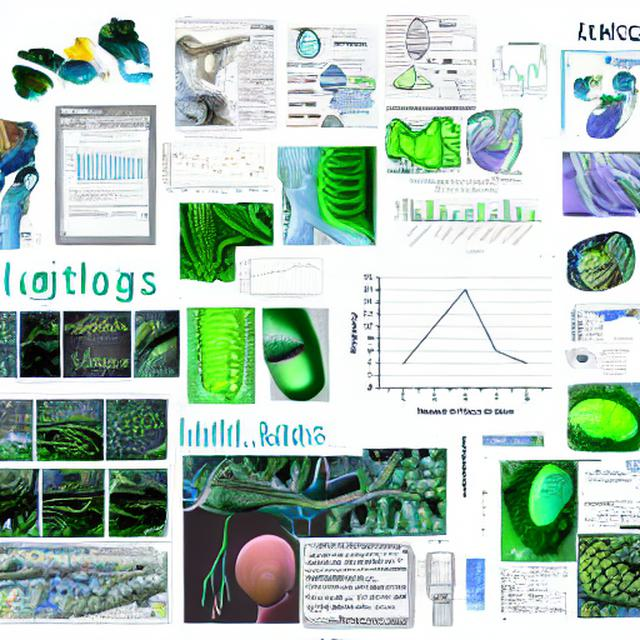Graph: (335, 258, 562, 428), (391, 175, 542, 256), (158, 134, 269, 199), (238, 256, 321, 302), (488, 39, 559, 92), (67, 139, 146, 186), (173, 412, 259, 452), (69, 336, 128, 378)
